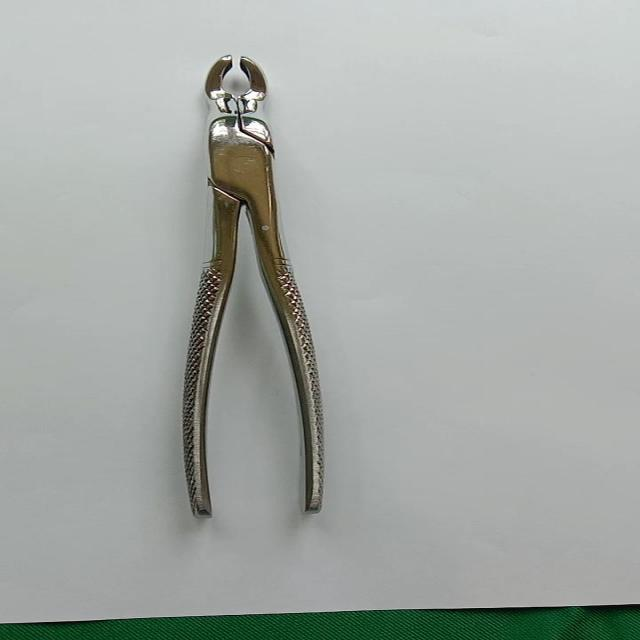BayonetForcep: (163, 52, 335, 528)
